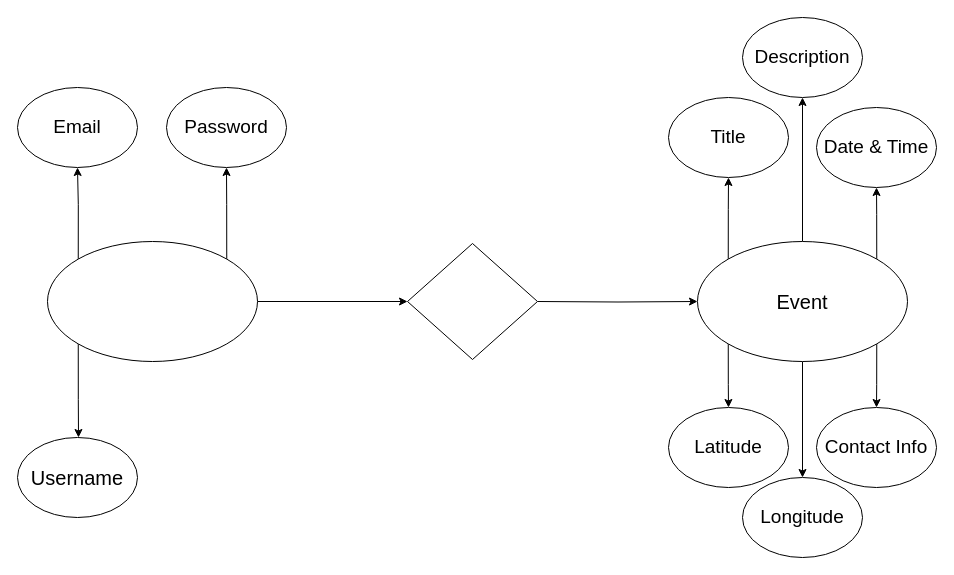
This 954x575 diagram has some shape labels left out. The centre of each missing label's shape, as x and y in pixels:
Creates: [472,301]
User: [152,301]
